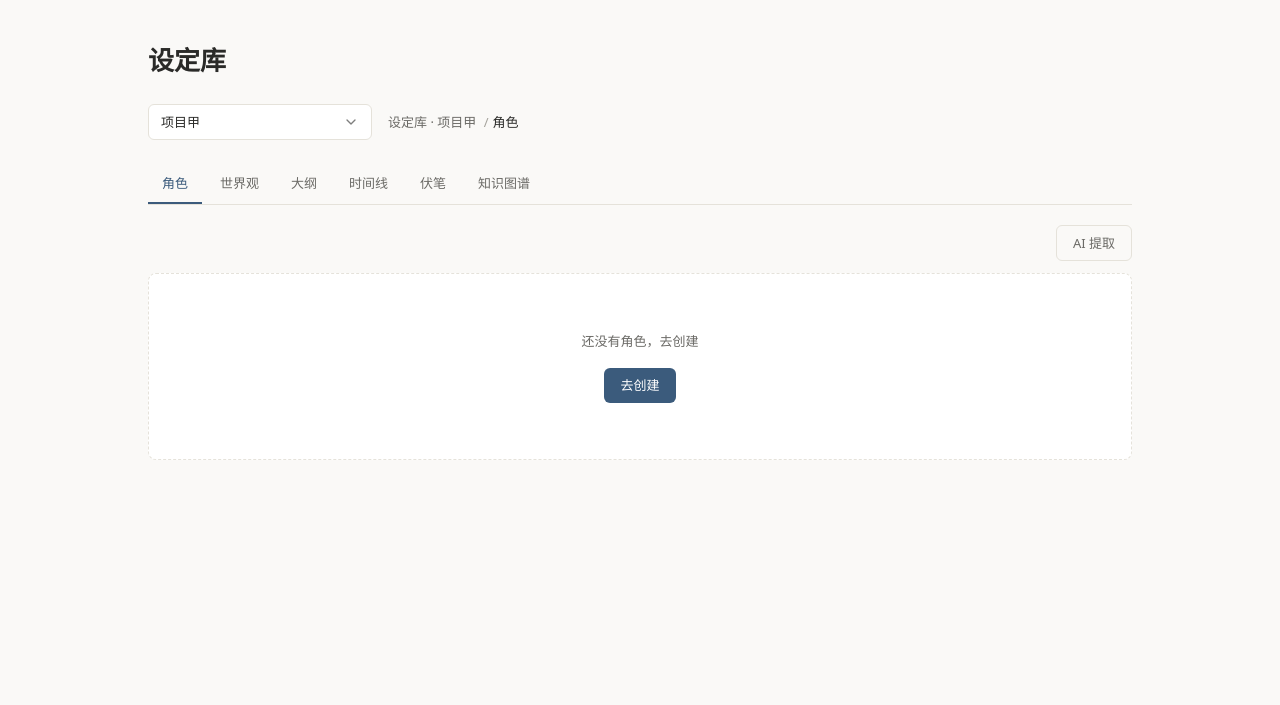
Test: #1465-B 实体列表随类别过滤（N18②） › N18② 取消某类 → 该类节点与实体行双双让位；勾回 → 恢复
Step 1. Click the tab "知识图谱" → (504,184), box [464, 164, 544, 204]
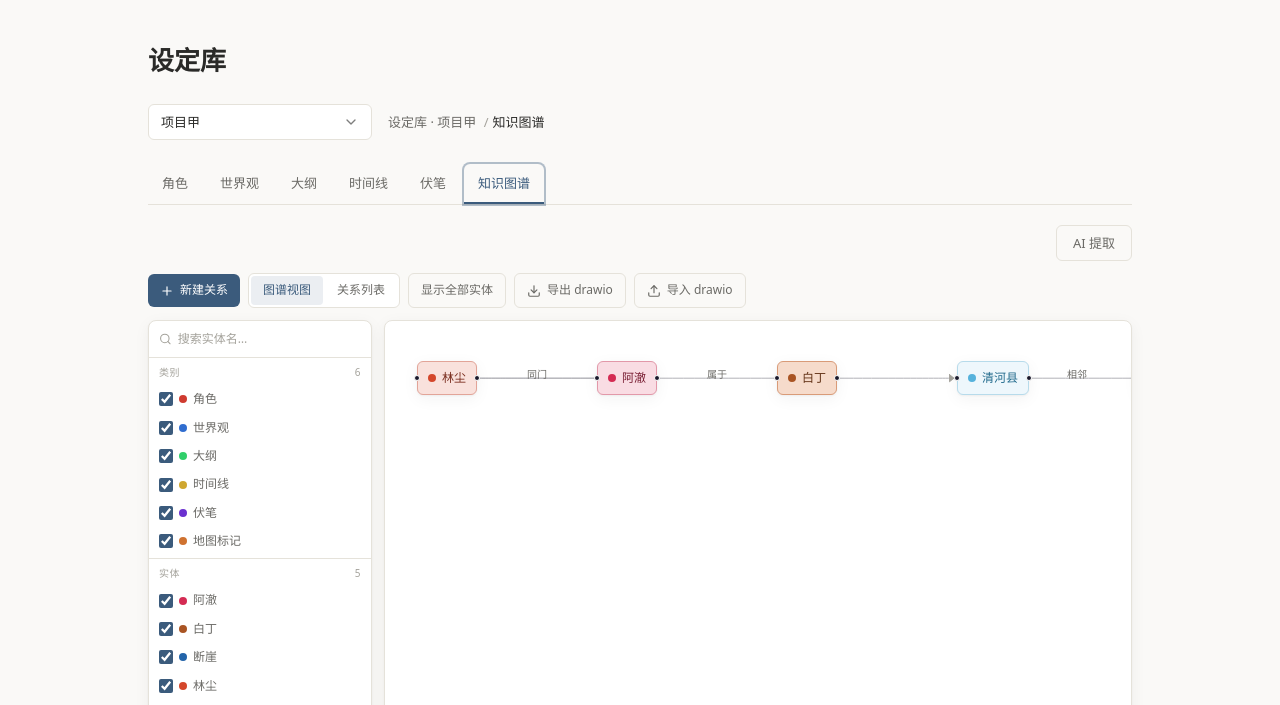
Check: the element with test id "library-kg-node-character-c1" is shown, box [417, 361, 477, 395]
Step 2. Click the checkbox with test id "library-kg-filter-panel-cat-character" → (166,399), box [159, 392, 173, 406]
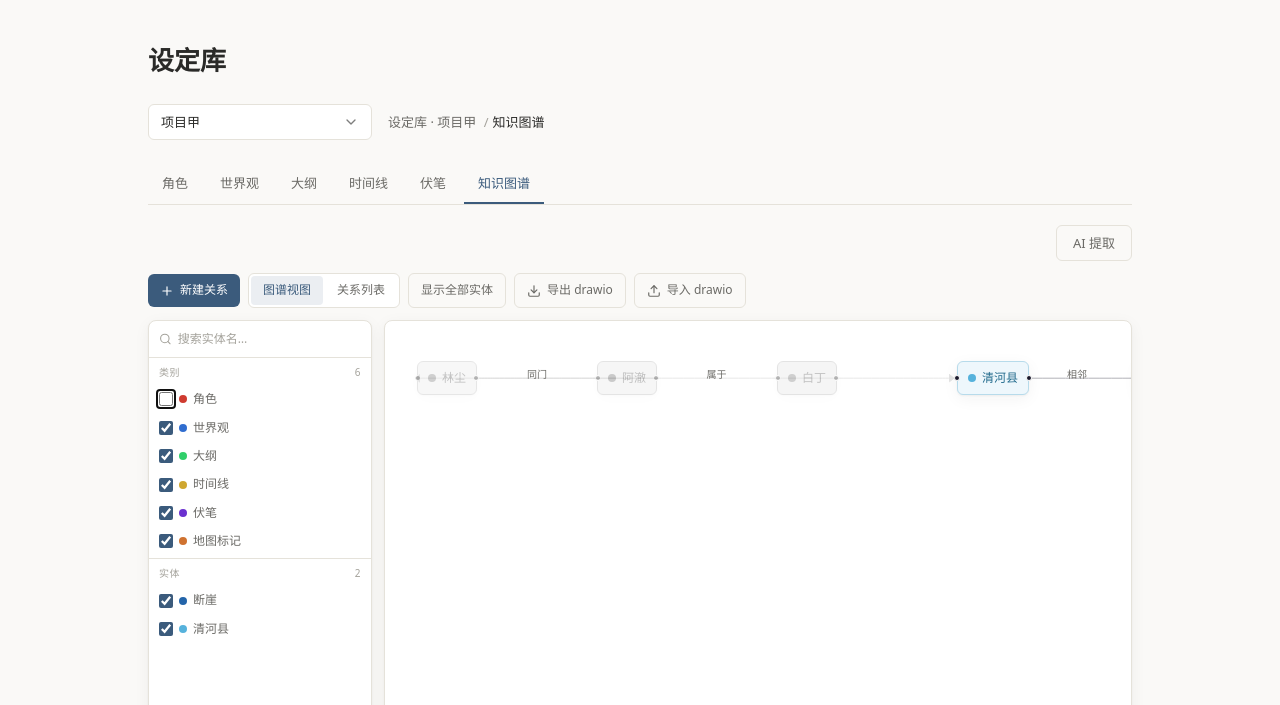
Check: the text "清河县" is shown, box [159, 620, 229, 637]
Check: the label with test id "library-kg-filter-panel-entity-character-c1" is gone
Check: the label with test id "library-kg-filter-panel-entity-character-c2" is gone
Step 3. Click the checkbox with test id "library-kg-filter-panel-cat-character" → (166,399), box [159, 392, 173, 406]
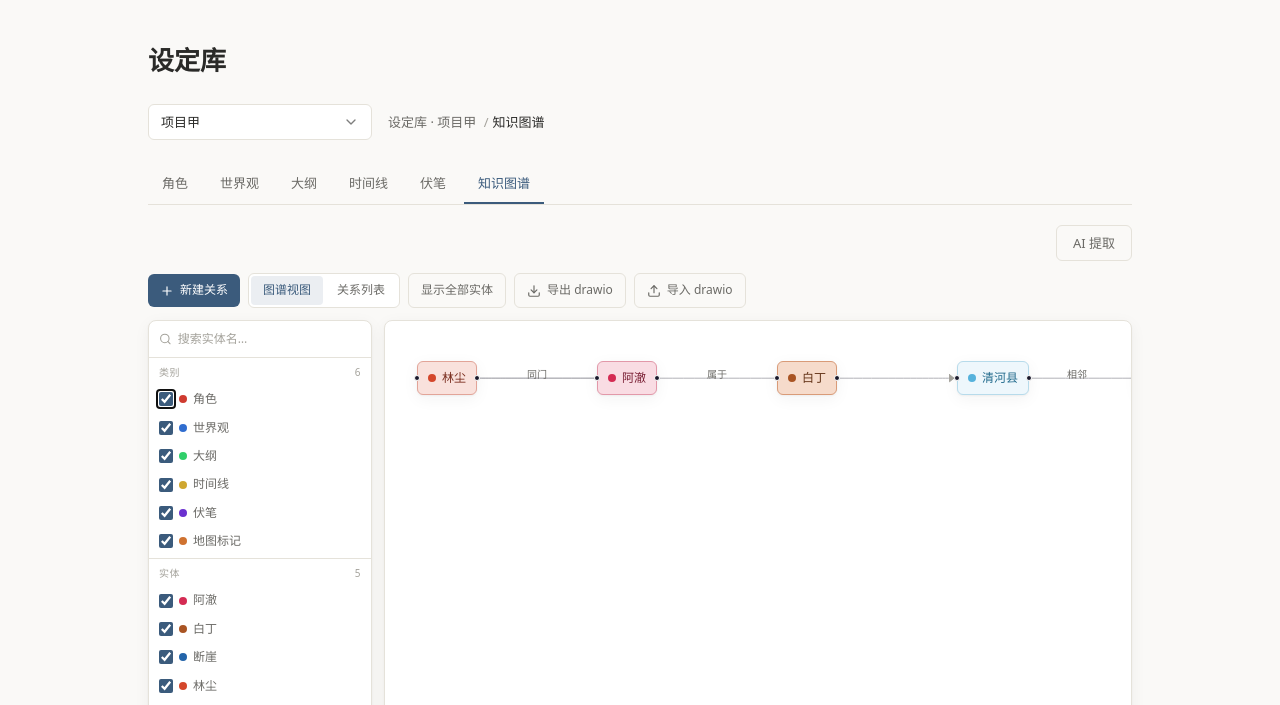
Check: the text "林尘" is shown, box [159, 677, 217, 694]
Check: the text with test id "library-kg-filter-panel-entity-count" reads "5", box [355, 566, 361, 580]
